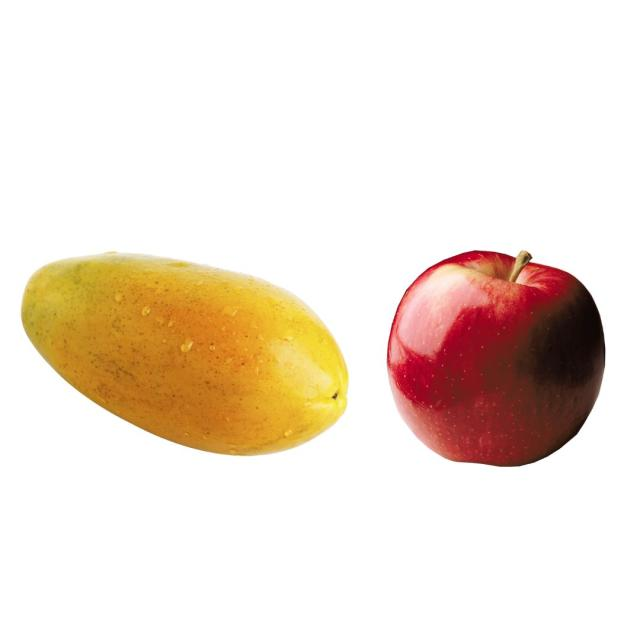Apel: (386, 248, 606, 467)
Pepaya: (20, 249, 349, 456)
